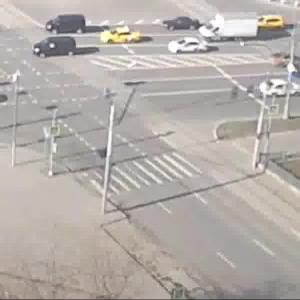car: (204, 12, 258, 45), (252, 9, 289, 34), (39, 39, 84, 59), (46, 15, 88, 36), (259, 82, 300, 102), (100, 28, 143, 47), (165, 14, 201, 33), (170, 41, 201, 55), (272, 53, 295, 67)
